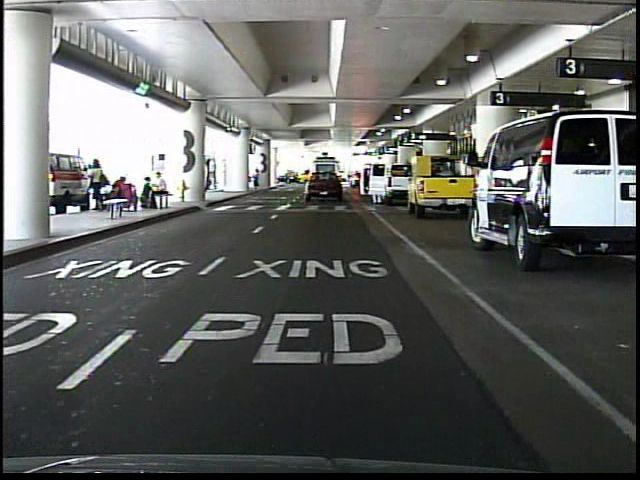person: (251, 167, 263, 191)
